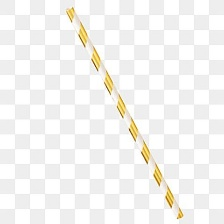drinking_straw: (59, 2, 188, 222)
